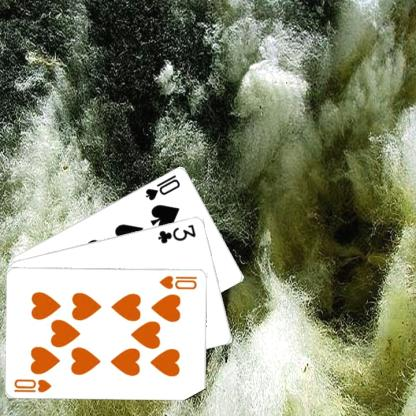10H: (12, 376, 53, 394), (157, 273, 198, 290)
10S: (143, 172, 181, 202)
3C: (156, 222, 198, 244)
